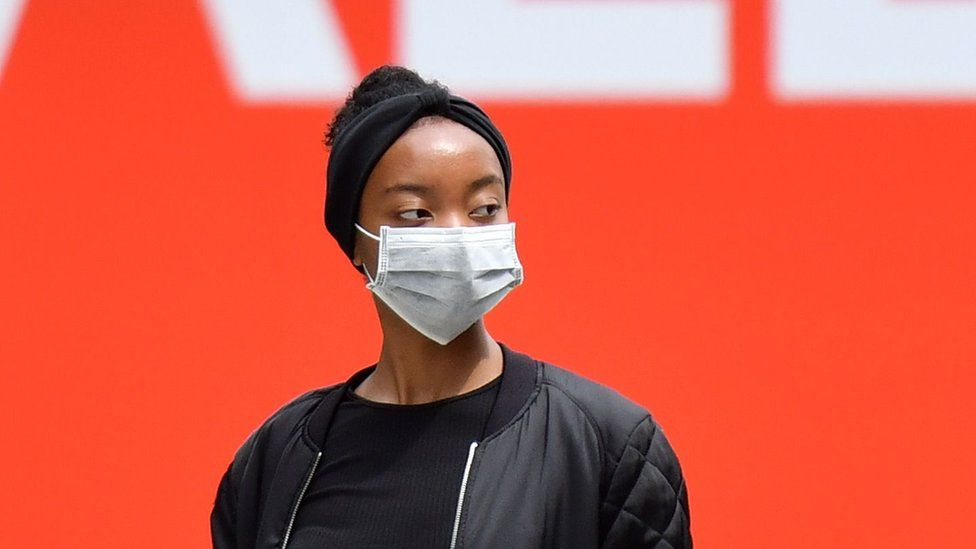with_mask: (362, 153, 514, 338)
